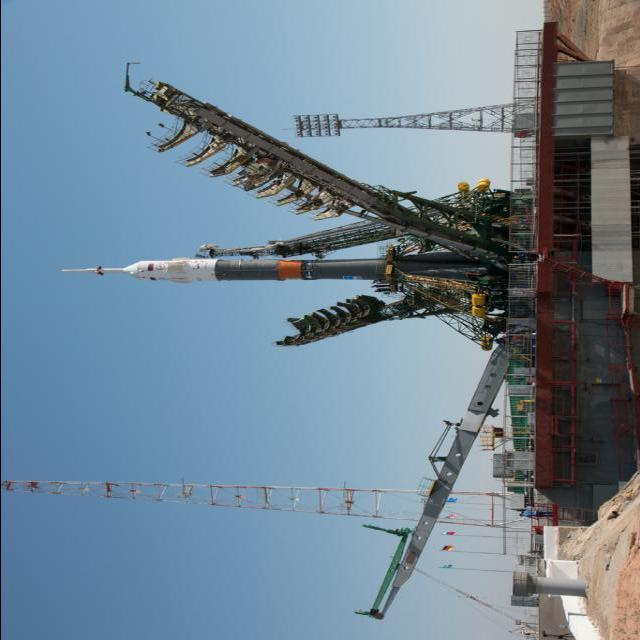Missile: (114, 254, 496, 292)
